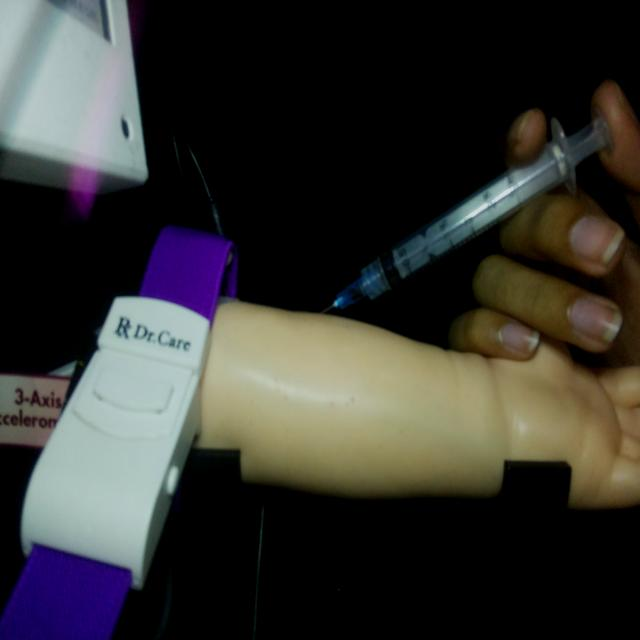24 degrees: (318, 108, 614, 316)
